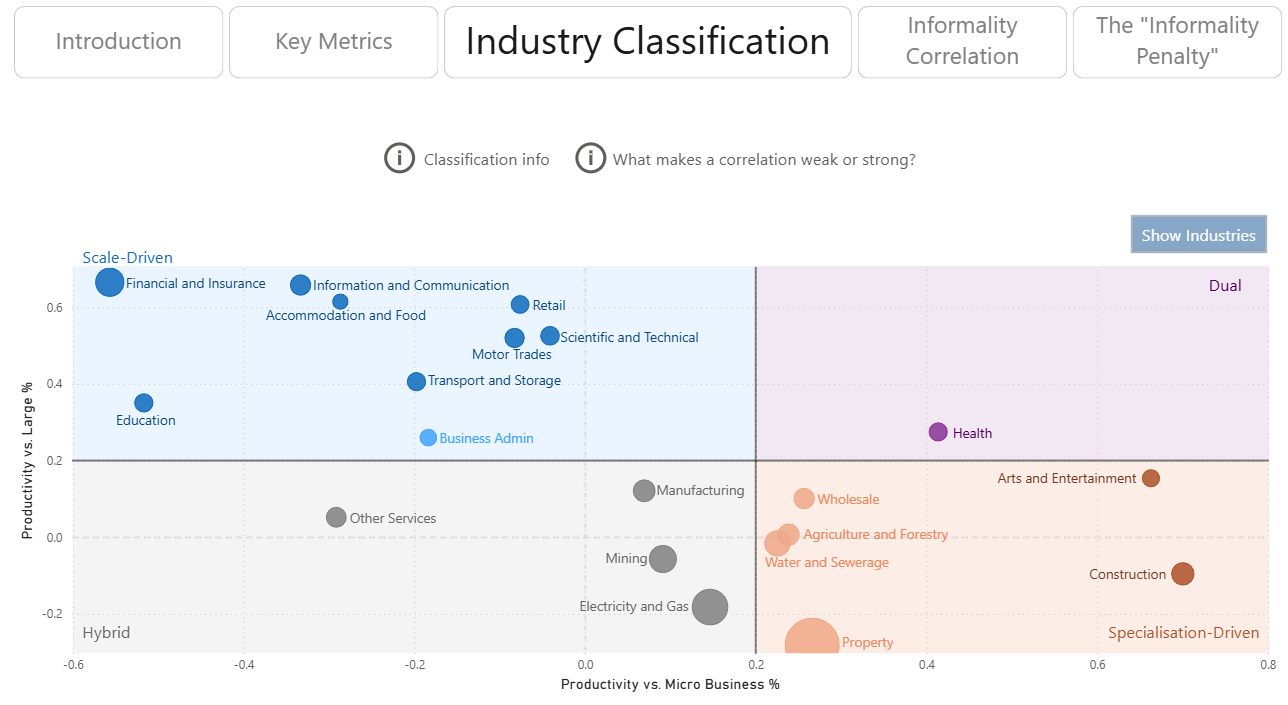

The dashboard page shown, as its layout file describes it:
{"tool":"powerbi","page":{"name":"Industry Classification","canvas":[1280,720],"ordinal":2},"visuals":[{"type":"shape","title":"Page - 1","box":[19.6,19.6,205,70.9],"z":0,"group":"g1"},{"type":"group","id":"g1","title":"Pages","box":[19.6,19.6,1241,70.9],"z":500},{"type":"shape","title":"Page - 2","box":[230,19.6,205,70.9],"z":500,"group":"g1"},{"type":"shape","title":"Page - 3","box":[440,19.6,399,70.9],"z":750,"group":"g1"},{"type":"shape","title":"Page - 4","box":[845.2,19.6,205,70.9],"z":875,"group":"g1"},{"type":"shape","title":"Page - 5","box":[1055.6,19.6,205,70.9],"z":937,"group":"g1"},{"type":"shape","title":"Scale-Driven overlay","box":[77,273.9,667.7,190.8],"z":1000},{"type":"shape","title":"Spec-Driven overlay","box":[744.7,464.7,502.6,188.3],"z":2000},{"type":"shape","title":"Hybrid overlay","box":[77,464.7,667.7,188],"z":3000},{"type":"shape","title":"Dual overlay","box":[744.7,273.9,502.6,190],"z":4000},{"type":"scatterChart","title":"Main Visual","fields":{"X":["industry_classification.corr_gva_micro"],"Y":["industry_classification.corr_gva_large"],"Series":["industry_classification.industry_type"],"Size":["Sum(industry_classification.avg_gva)"]},"box":[19.6,262.9,1240,432.9],"z":5000},{"type":"textbox","title":"Scale-Driven","box":[77,248,107.6,33],"z":6000},{"type":"textbox","title":"Specialisation-Driven","box":[1081,615.1,166.3,37.9],"z":7000},{"type":"textbox","title":"Hybrid","box":[77,615.1,66,39.1],"z":8000},{"type":"textbox","title":"Dual","box":[1161.7,276.4,85.6,35.5],"z":9000},{"type":"actionButton","title":"Corr_thresholds button","box":[563.5,148,342.4,40.4],"z":11000},{"type":"actionButton","title":"Class_info button","box":[376.4,148,171.2,40.4],"z":12000},{"type":"actionButton","title":"Show Industries open","box":[1110,222,135.9,40.5],"z":14500}]}

Visuals, with their boxes in screenshot pixels (x1, y1, x2, y2), scaled from the page's 1280x720 canvas onto the 1288x705 screenshot:
"Page - 1" shape: select_region(20, 19, 226, 89)
"Pages" group: select_region(20, 19, 1268, 89)
"Page - 2" shape: select_region(231, 19, 438, 89)
"Page - 3" shape: select_region(443, 19, 844, 89)
"Page - 4" shape: select_region(850, 19, 1057, 89)
"Page - 5" shape: select_region(1062, 19, 1268, 89)
"Scale-Driven overlay" shape: select_region(77, 268, 749, 455)
"Spec-Driven overlay" shape: select_region(749, 455, 1255, 639)
"Hybrid overlay" shape: select_region(77, 455, 749, 639)
"Dual overlay" shape: select_region(749, 268, 1255, 454)
"Main Visual" scatterChart: select_region(20, 257, 1267, 681)
"Scale-Driven" textbox: select_region(77, 243, 186, 275)
"Specialisation-Driven" textbox: select_region(1088, 602, 1255, 639)
"Hybrid" textbox: select_region(77, 602, 144, 641)
"Dual" textbox: select_region(1169, 271, 1255, 305)
"Corr_thresholds button" actionButton: select_region(567, 145, 912, 184)
"Class_info button" actionButton: select_region(379, 145, 551, 184)
"Show Industries open" actionButton: select_region(1117, 217, 1254, 257)
